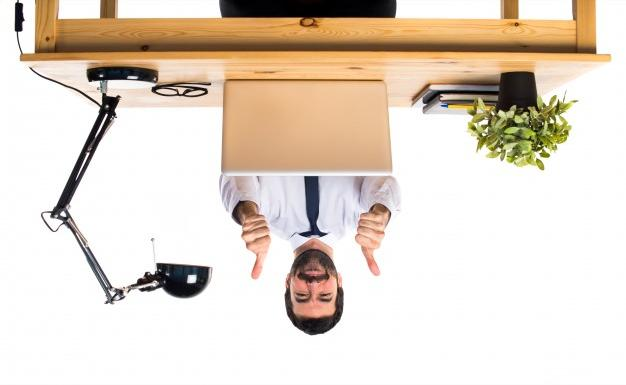thumbsdown: (355, 212, 385, 276), (241, 214, 270, 280)
